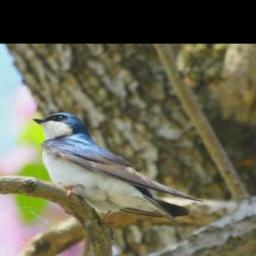Swallow: (32, 111, 205, 230)
